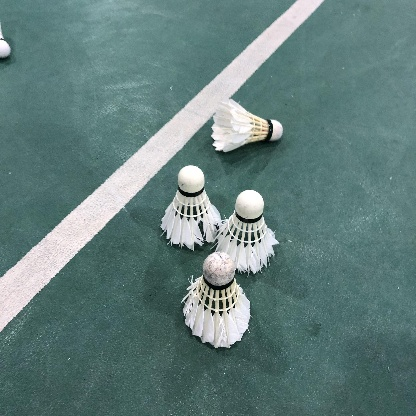ball_single: (183, 252, 251, 348), (213, 190, 279, 273), (160, 165, 222, 251), (211, 98, 283, 152), (0, 22, 10, 59)
